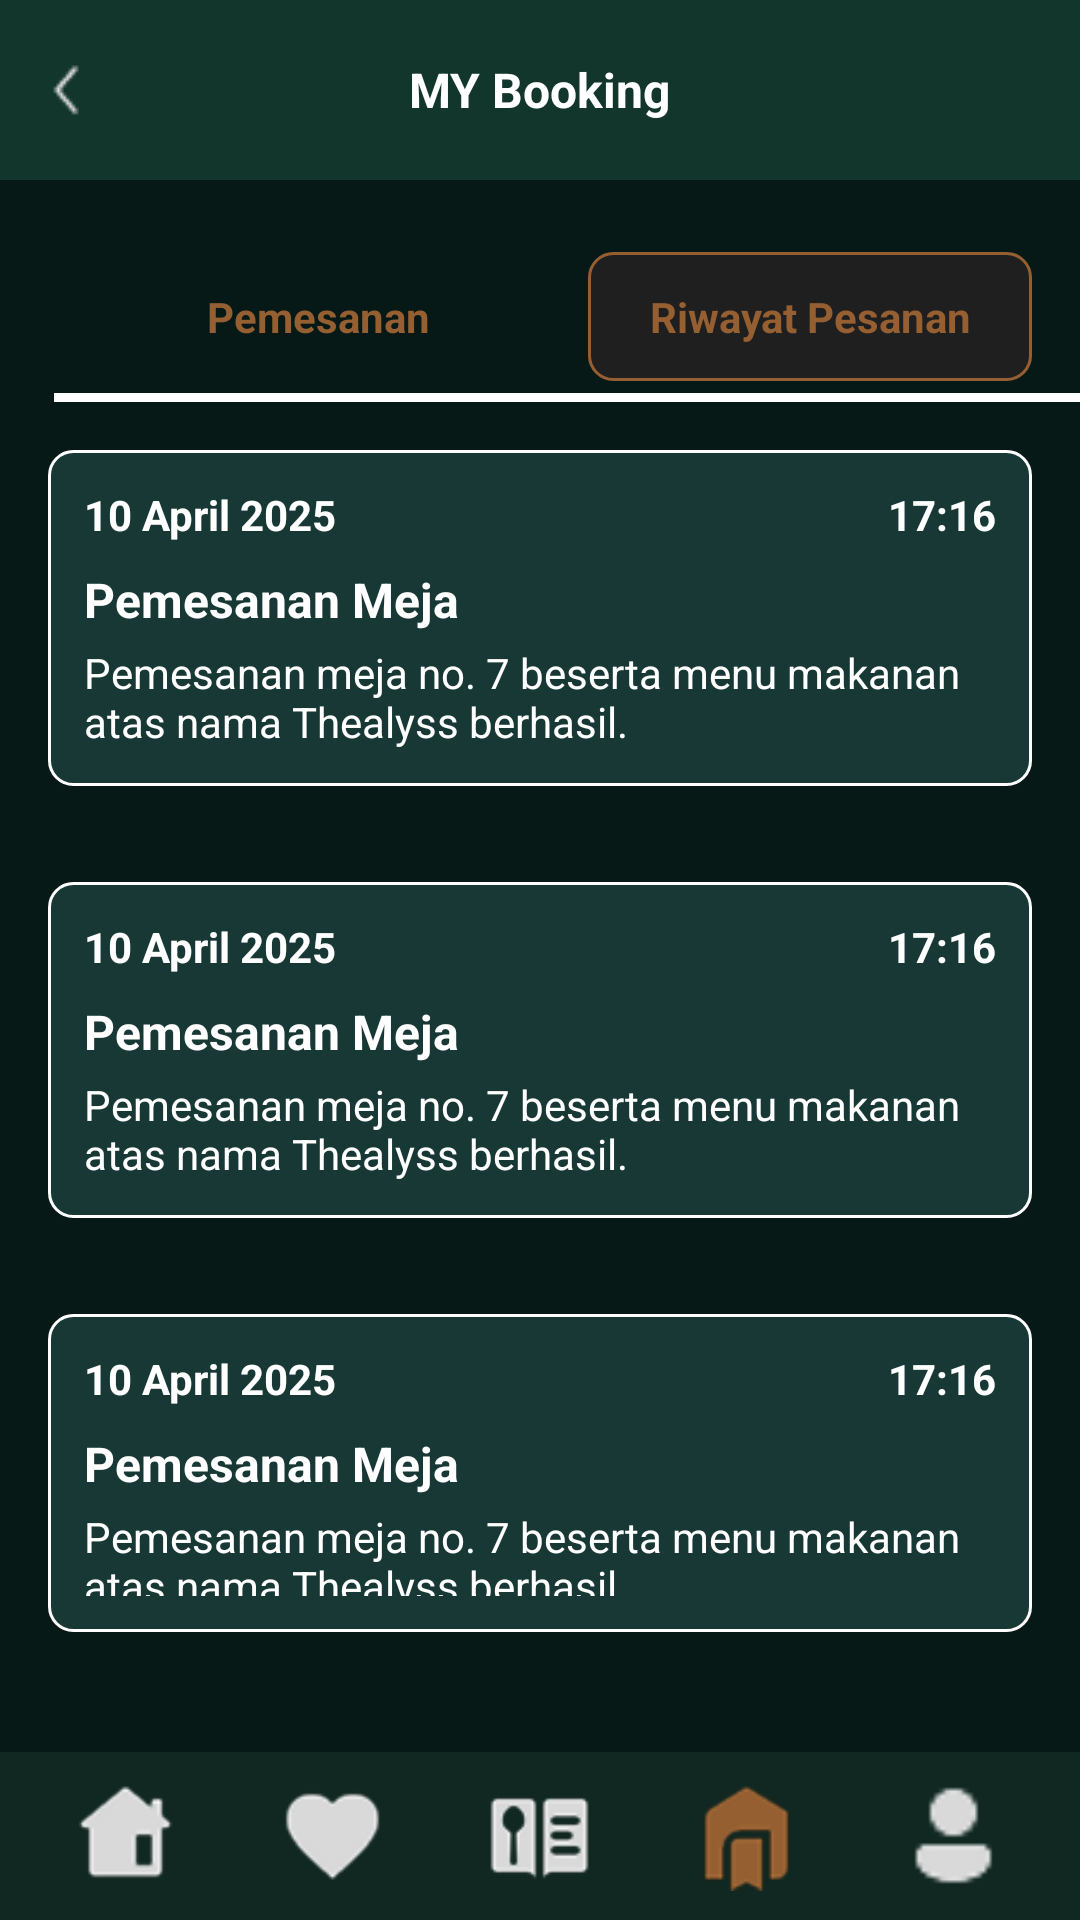

Screen size 1080px x 1920px. Icon name, then its center in pixels as (x,y):
back: (66,90)
bookingc: (746,1839)
favorite: (332,1836)
home: (125,1832)
menu: (539,1838)
user: (953,1835)
